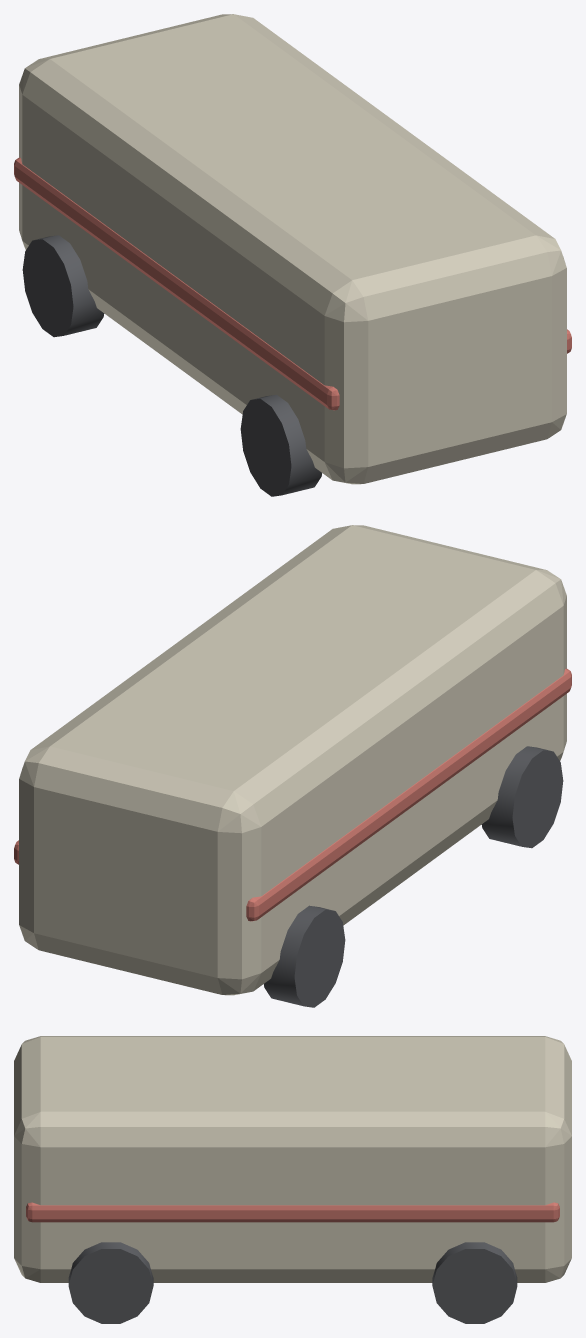
Rendered from van.glb.
3 renders of one model, top to bottom at view 1: azimuth 30°, elevation 25°; view 2: azimuth 150°, elevation 25°; view 3: azimuth 270°, elevation 25°, orthographic. The views are drawn at different scales.
Visible parts, largest first — view 1: van_Palette; view 2: van_Palette; view 3: van_Palette.
Boxes of the visible parts, box(x1,y1,x2,y2) form: van_Palette: box(14, 14, 571, 496); van_Palette: box(14, 525, 571, 1007); van_Palette: box(14, 1036, 571, 1323).
Size of the model in its own units: 2.16 by 1.77 by 4.6.
